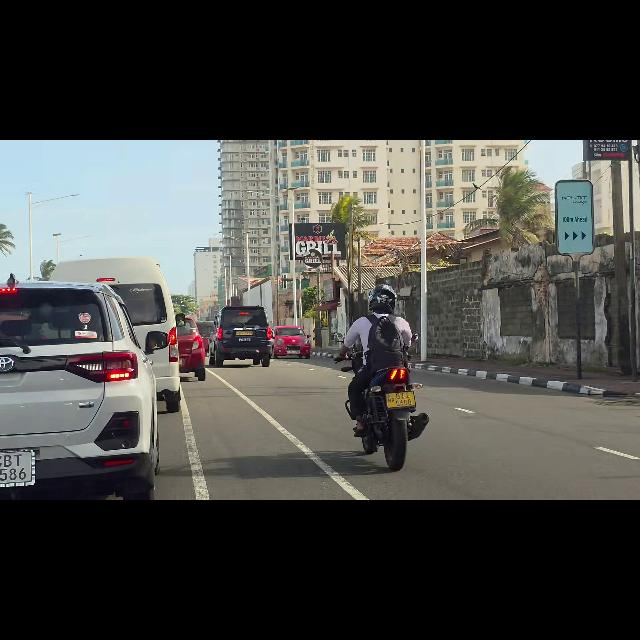car: (0, 293, 140, 461), (123, 264, 177, 392), (219, 308, 265, 362), (278, 328, 306, 354)
helmet: (368, 285, 398, 313)
motorcycle: (347, 366, 417, 462)
number_plate: (378, 392, 416, 411), (232, 328, 254, 338)
person: (355, 284, 405, 374)
